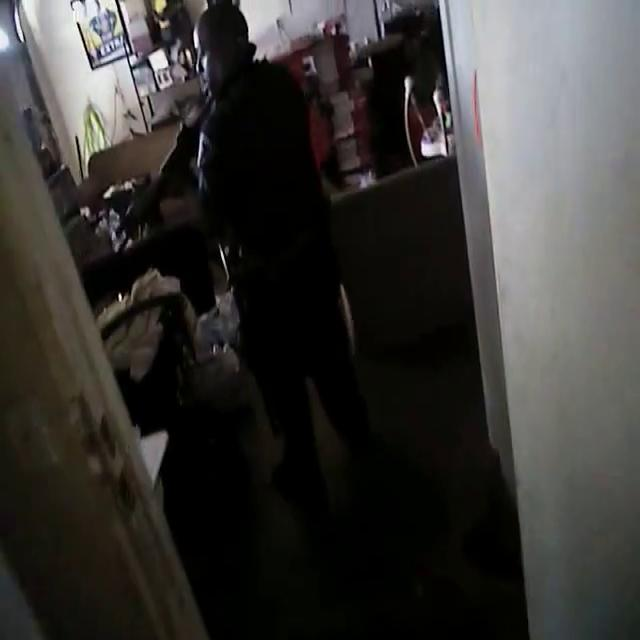gun: (94, 100, 236, 232)
